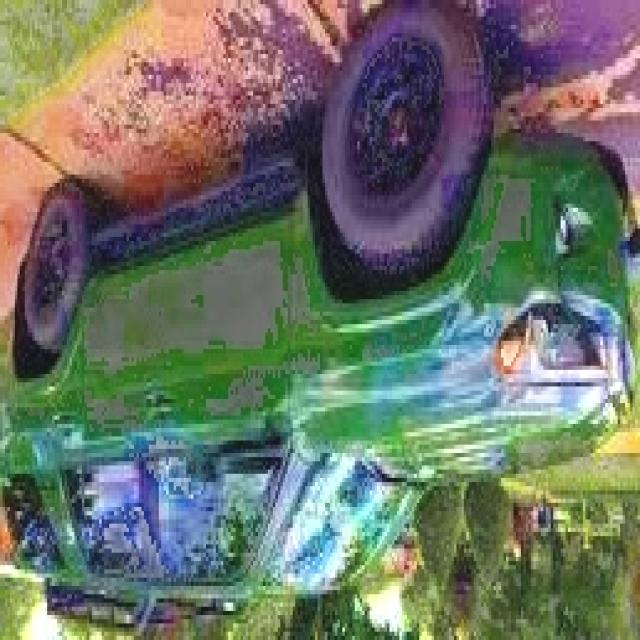green: (0, 129, 630, 611)
